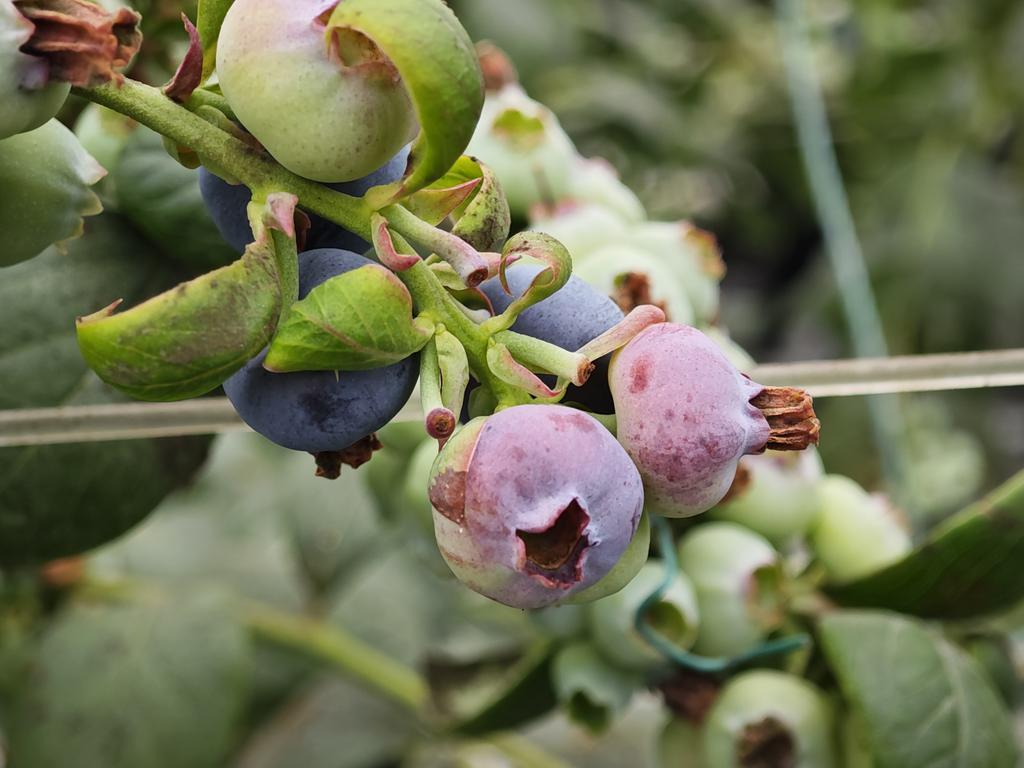Semi-RipeBlueBerry: (433, 404, 646, 609), (618, 319, 822, 520)
